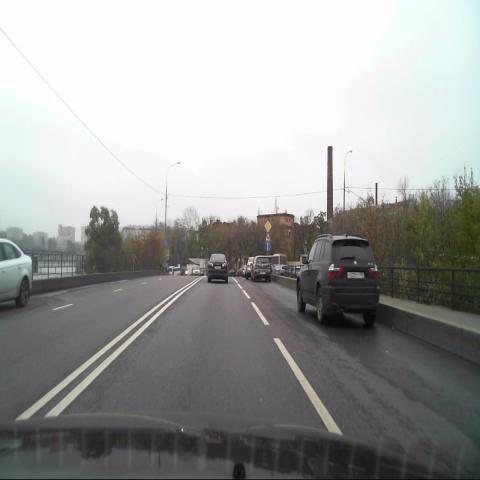2_1: (264, 221, 271, 233)
4_1_1: (264, 241, 271, 253)
